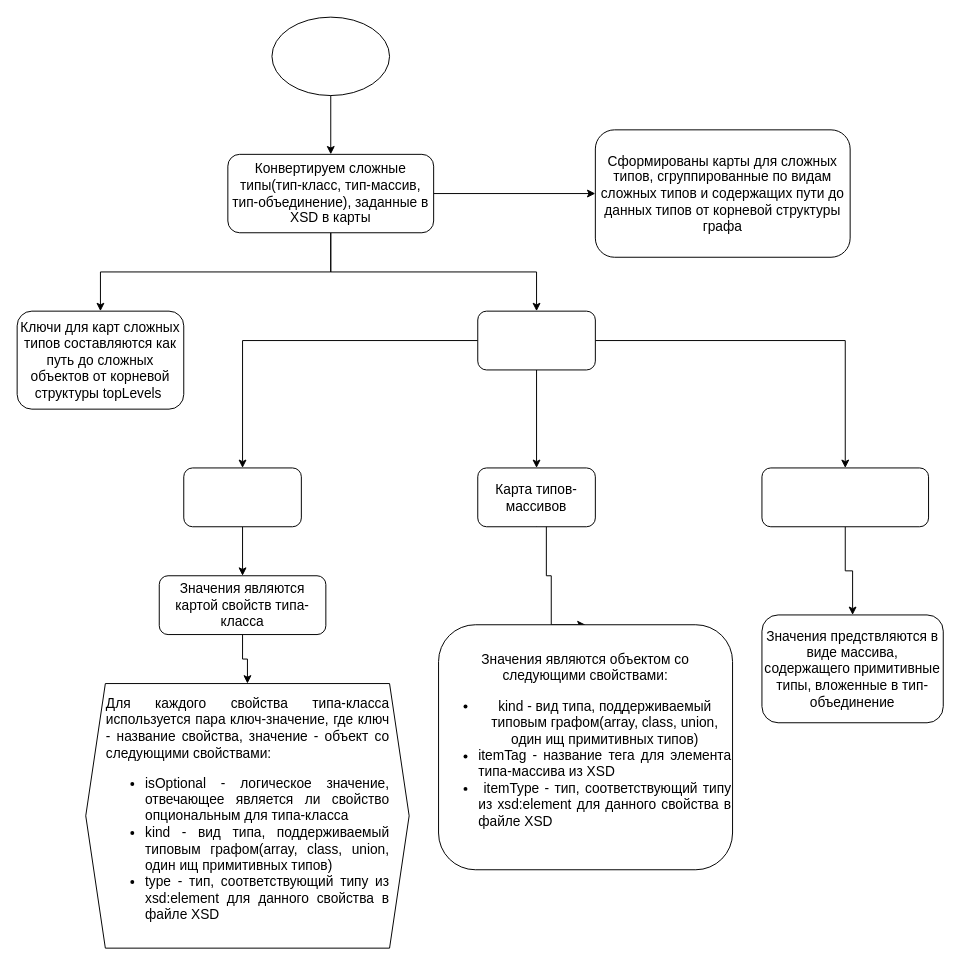
Image size: 960x965. Some labels were removed from this diagram. The centre of each missing label's shape, as x and y in pixels:
Значения в картах сложных объектов: [536,340]
Карта типов-классов: [242,497]
Карта типов-объединений: [845,497]
Сформированый ранее XSD: [330,56]
